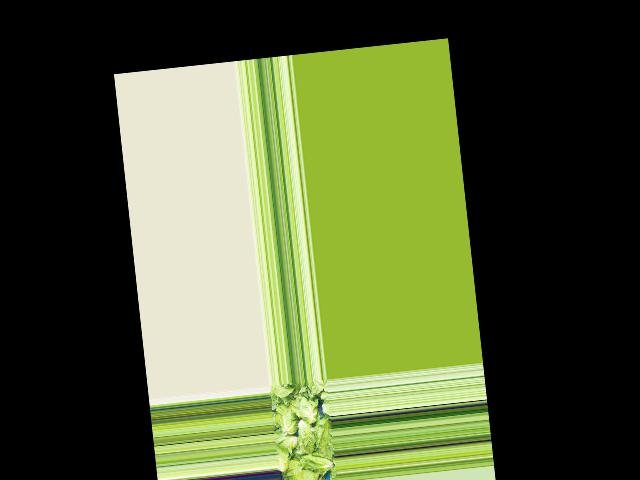lettuce: (275, 441, 292, 477)
